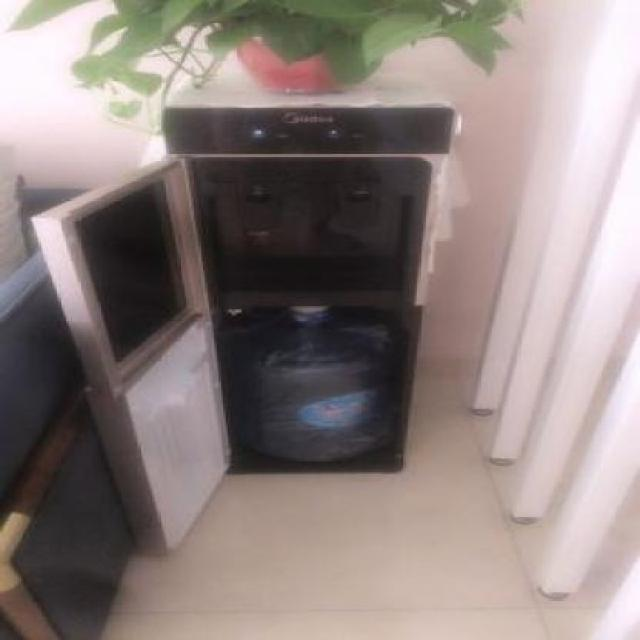cooler: (159, 85, 466, 480)
